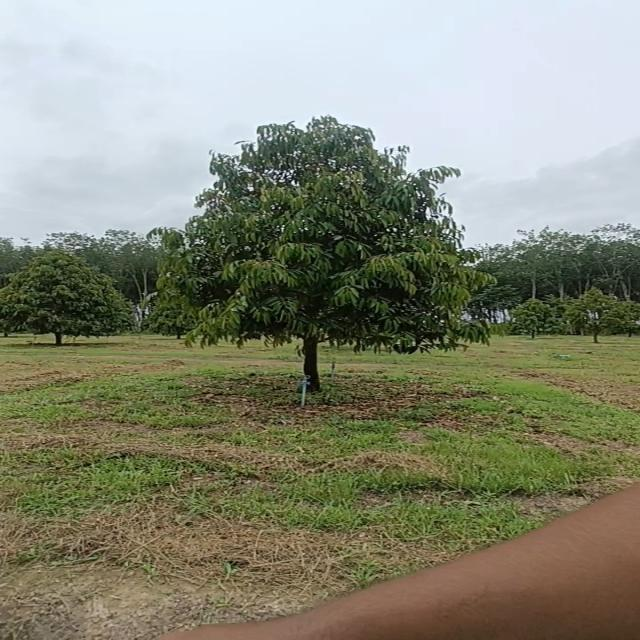Tree: (134, 112, 474, 392)
